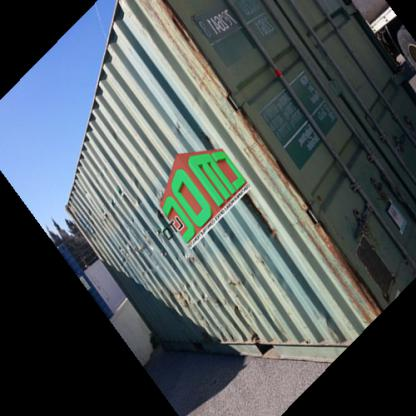Damage: (159, 3, 222, 94), (318, 226, 378, 318), (235, 178, 286, 247), (168, 277, 218, 316), (231, 290, 264, 342), (150, 210, 180, 249), (104, 182, 147, 205), (77, 186, 98, 221), (113, 237, 133, 269), (167, 112, 184, 134), (183, 241, 200, 257)
